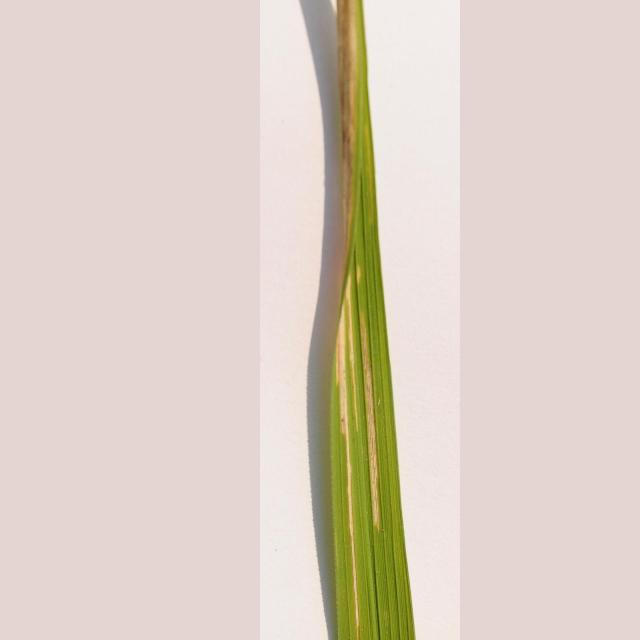Bacterial leaf blight: (259, 0, 466, 636)
